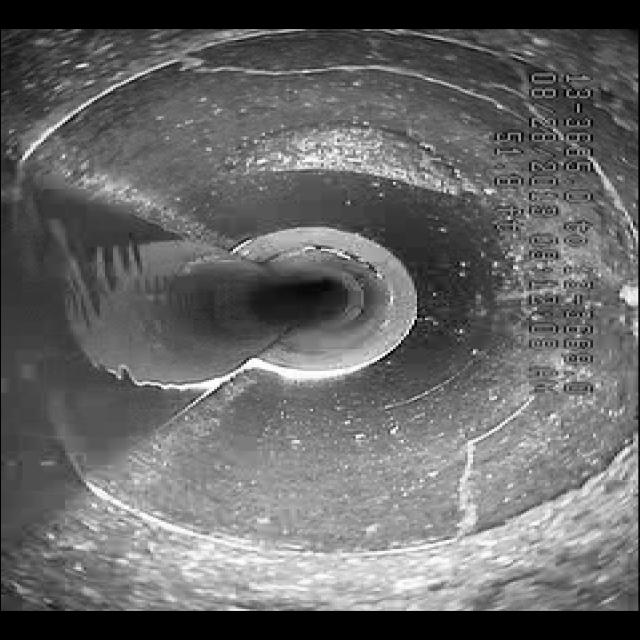Crack: (185, 49, 520, 115), (391, 416, 522, 511)
